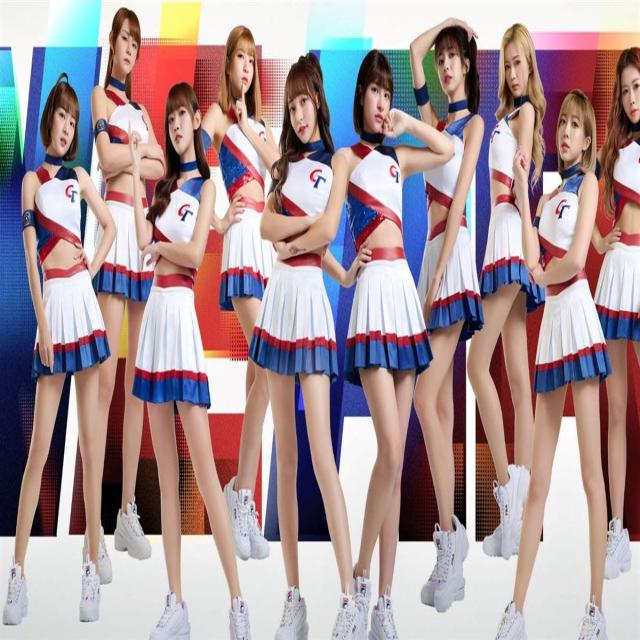stand: (400, 20, 486, 627), (506, 84, 599, 640), (269, 48, 349, 640), (131, 84, 208, 636), (30, 77, 106, 626), (203, 23, 278, 560), (470, 27, 543, 561), (349, 50, 410, 629), (92, 10, 148, 597), (601, 46, 640, 565)
